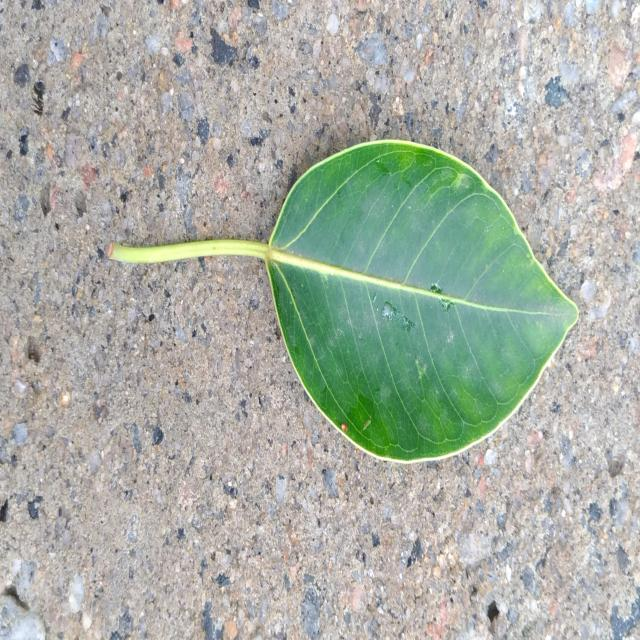camphor: (265, 140, 578, 462)
